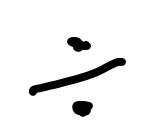div: (29, 37, 126, 117)
